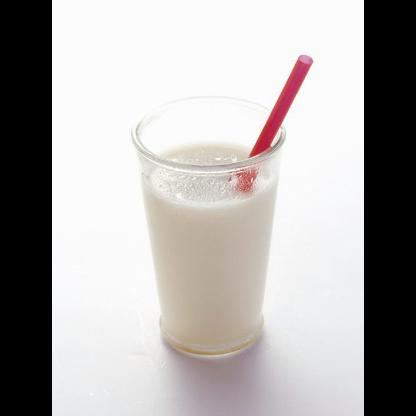milk: (139, 140, 279, 358)
